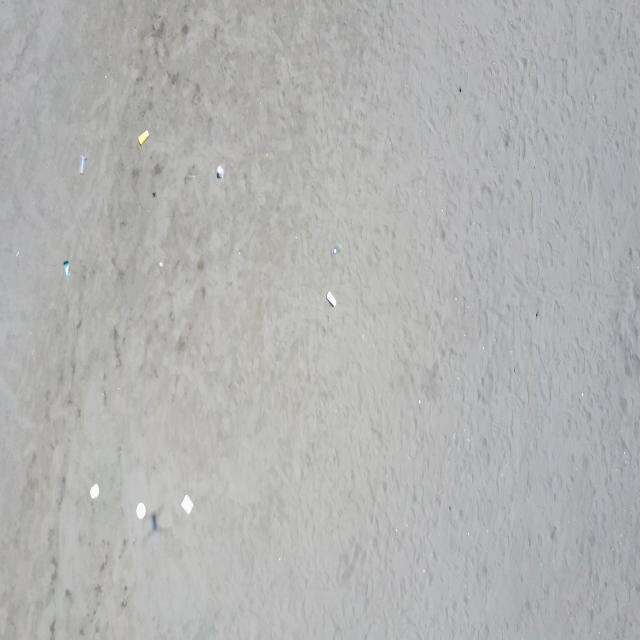take-away-containers: (181, 494, 194, 516), (136, 502, 146, 519), (90, 484, 100, 499)
takeaway-cup: (326, 290, 337, 308), (138, 130, 150, 146), (78, 154, 86, 176), (331, 243, 342, 256), (63, 260, 70, 276), (217, 164, 224, 179)
